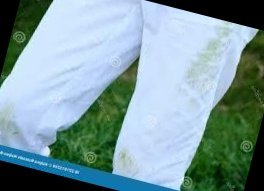earth: (183, 39, 223, 98), (114, 148, 140, 173), (0, 106, 20, 133), (212, 20, 232, 46)
